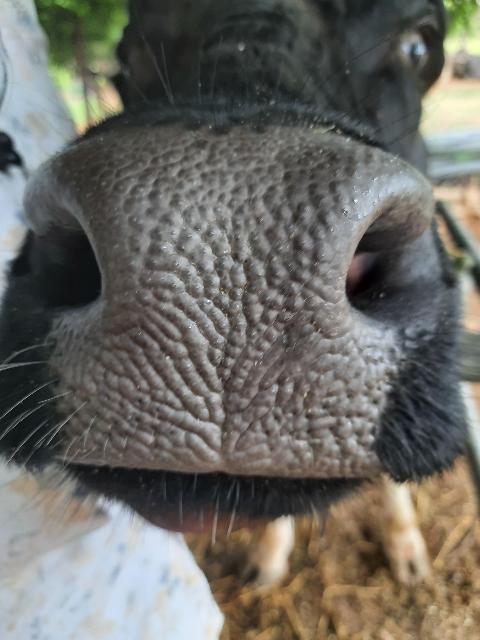Muzzle: (47, 142, 379, 468)
